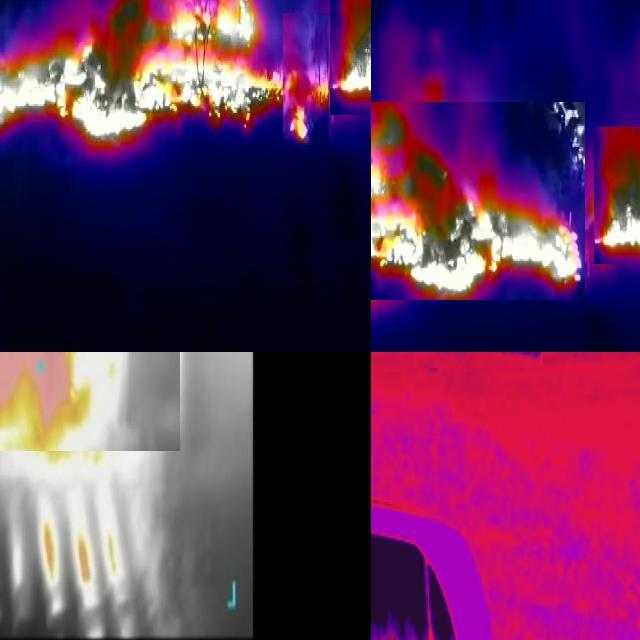fire: (372, 102, 585, 300), (1, 1, 283, 145), (594, 127, 640, 264), (283, 13, 329, 149), (330, 1, 372, 115)
